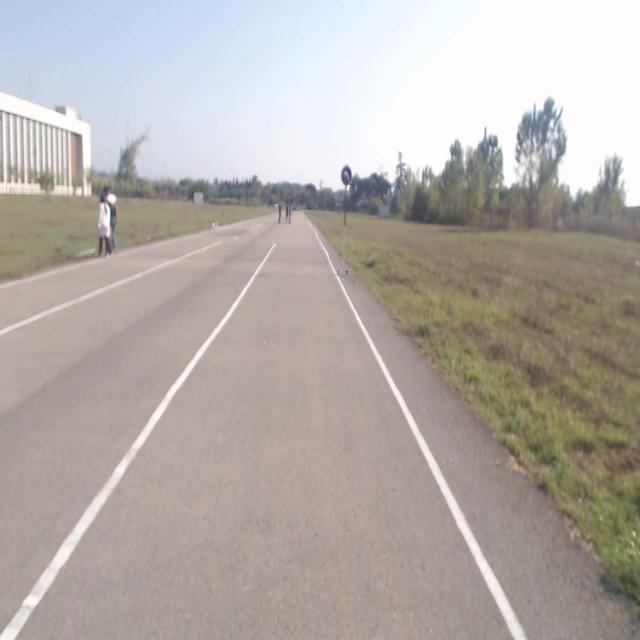sol: (341, 165, 351, 186)
